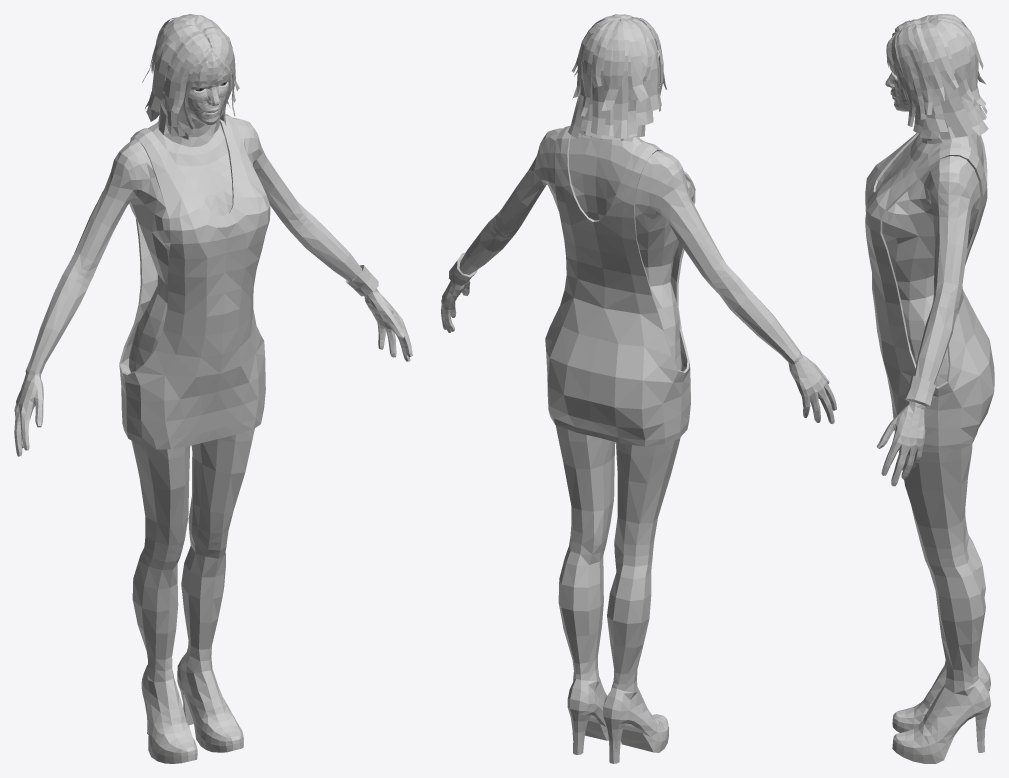
Rendered from dancer03.obj.
The picture shows the model from 3 angles, left to right: view 1: azimuth 30°, elevation 25°; view 2: azimuth 150°, elevation 25°; view 3: azimuth 270°, elevation 25°; orthographic projection.
Parts seen in each view (by area): view 1: rdmobj01; view 2: rdmobj01; view 3: rdmobj01.
Boxes of the visible parts, x1,y1,x2,y2 form: rdmobj01: (14, 14, 412, 763); rdmobj01: (441, 14, 836, 763); rdmobj01: (865, 14, 994, 763).
Bounding box in the file's own units: 3.13 × 5.55 × 0.8978.
